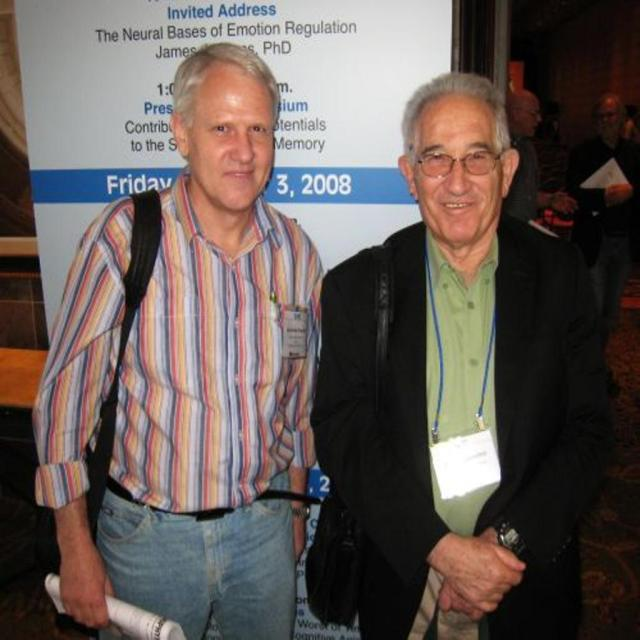Face: (389, 93, 517, 248), (183, 59, 293, 210)
